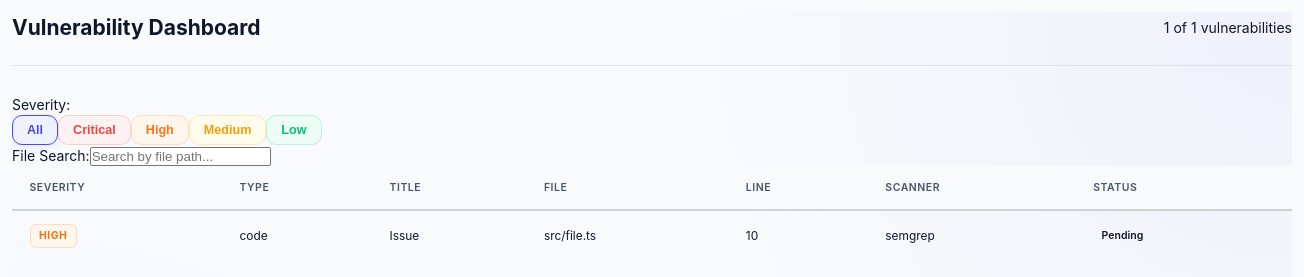
Scenario: VulnerabilityDashboard Component › Unit Tests › should show clear filters button when filters are applied
The width and height of the screenshot is (1304, 277).
Expected: the text "Issue" is shown, [372,210,526,260]
// Apply file search filter that matches nothing
In the field named "Search vulnerabilities by file path": {"x": 180, "y": 156} [90,146,271,166], type "nonexistent"
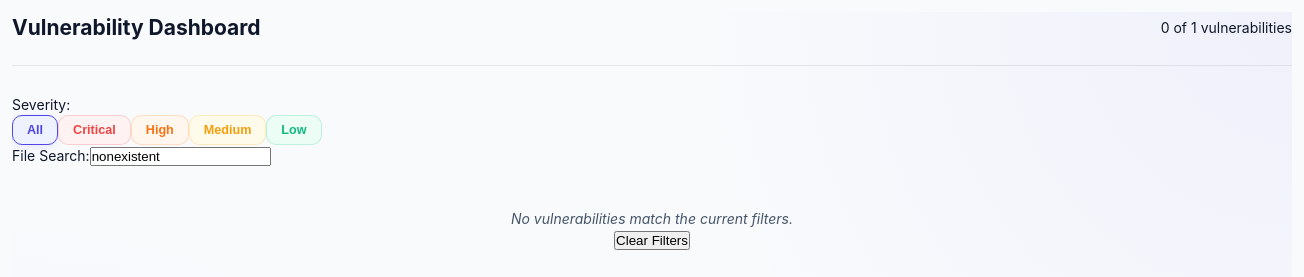
Result: the text "No vulnerabilities match the current filters." is shown at [511,210,793,226]
Result: the button "Clear Filters" is shown
// Click clear filters
Click the button "Clear Filters": {"x": 652, "y": 240} [614,230,690,250]
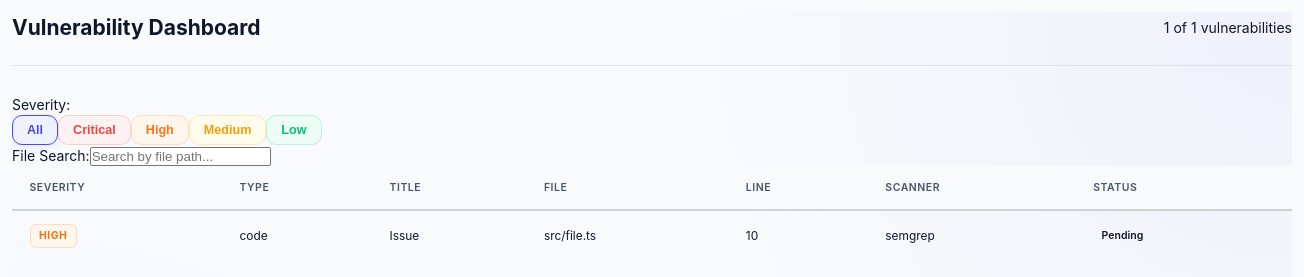
Result: the text "Issue" is shown at [372,210,526,260]
